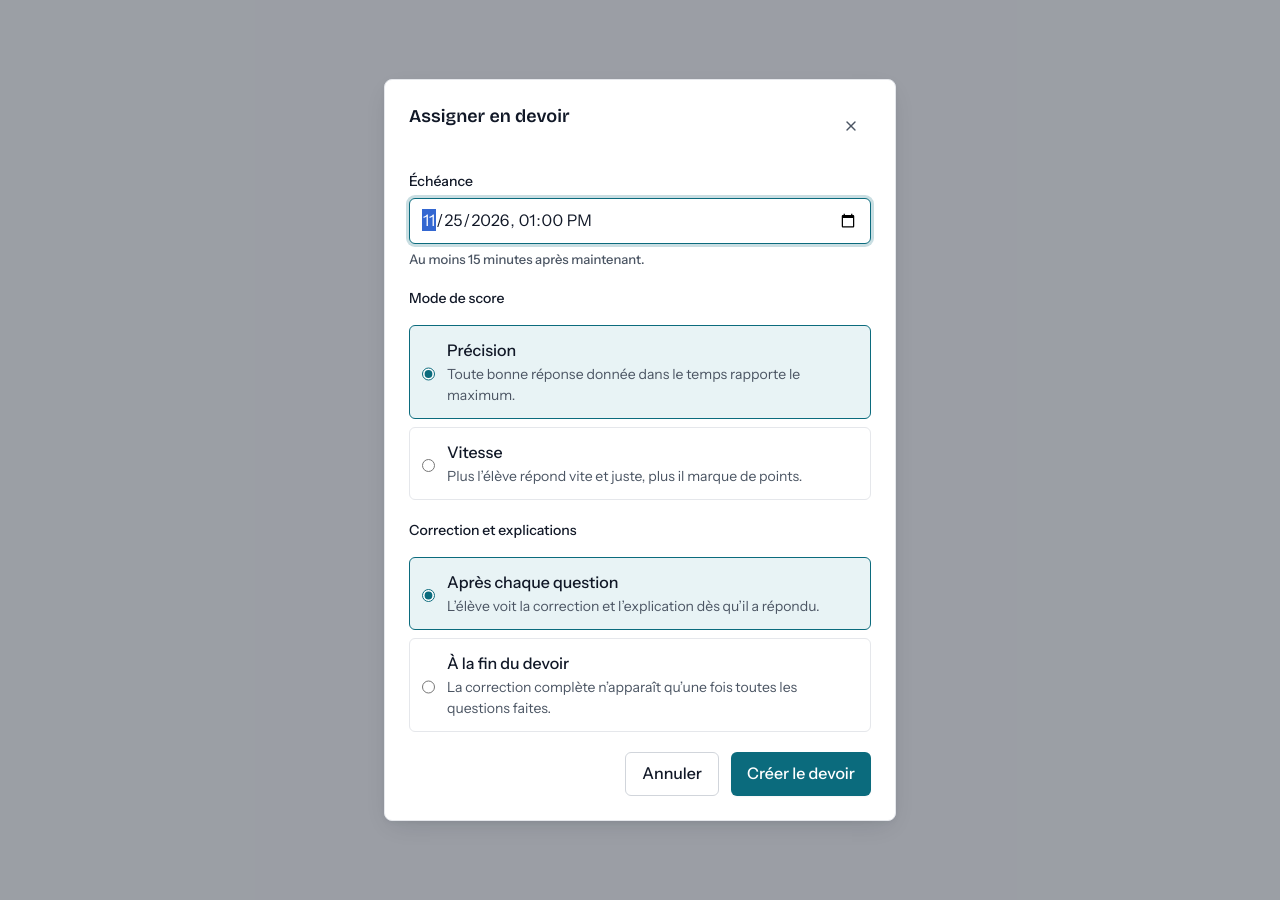
Test: AssignHomeworkDialog › affiche le message du serveur en cas d’échec
Click the button "Créer le devoir": (801, 774) [731, 752, 871, 796]
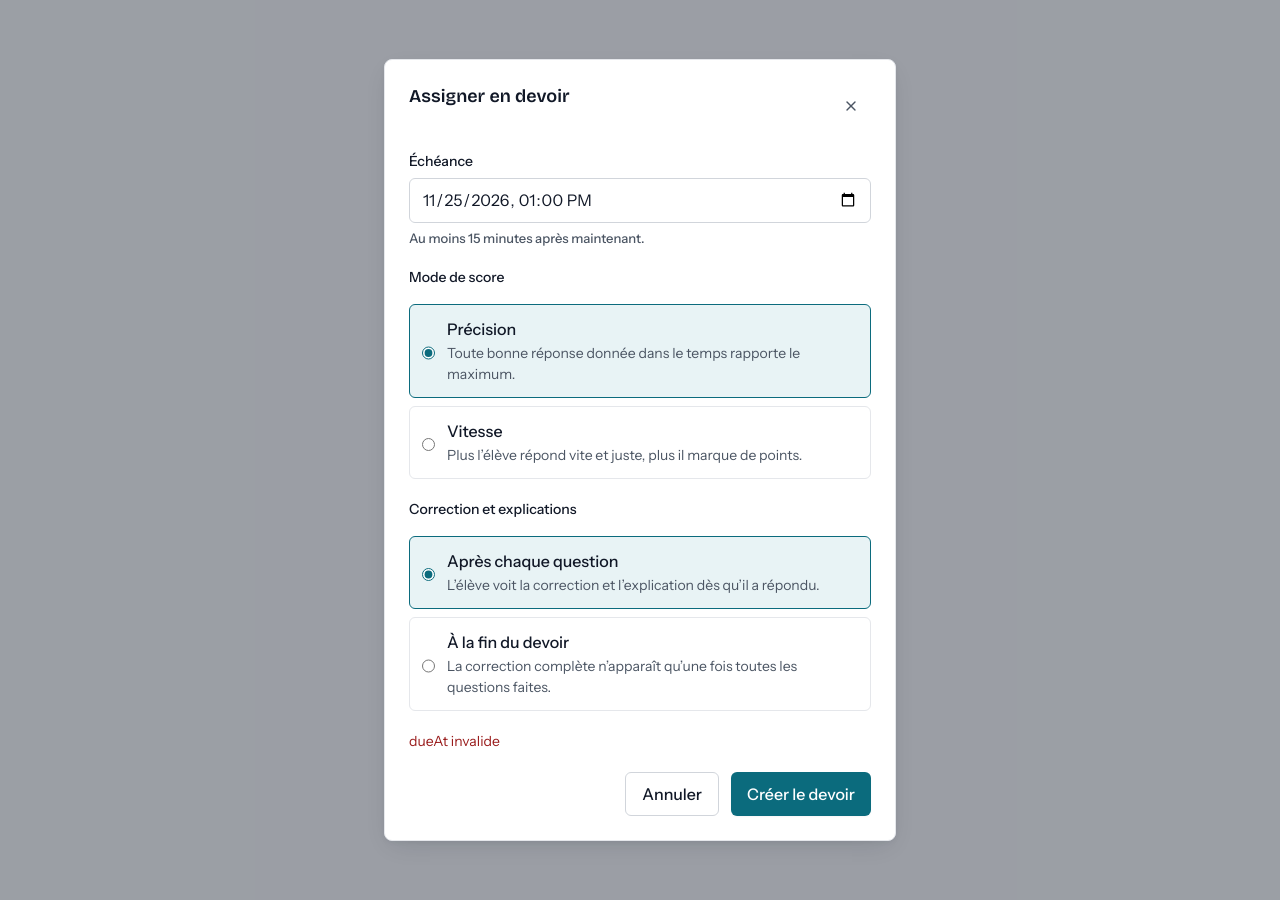
expect the message reads "dueAt invalide": met, box [409, 732, 500, 750]
